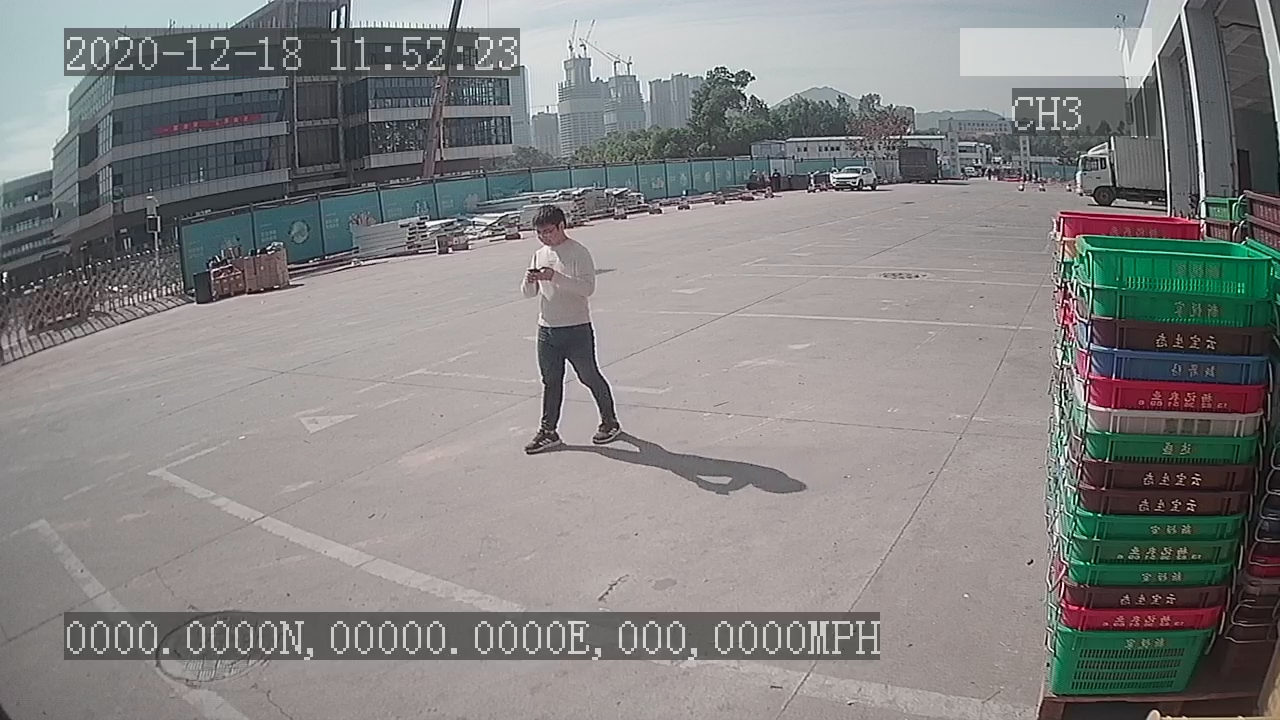person: (511, 199, 627, 463)
